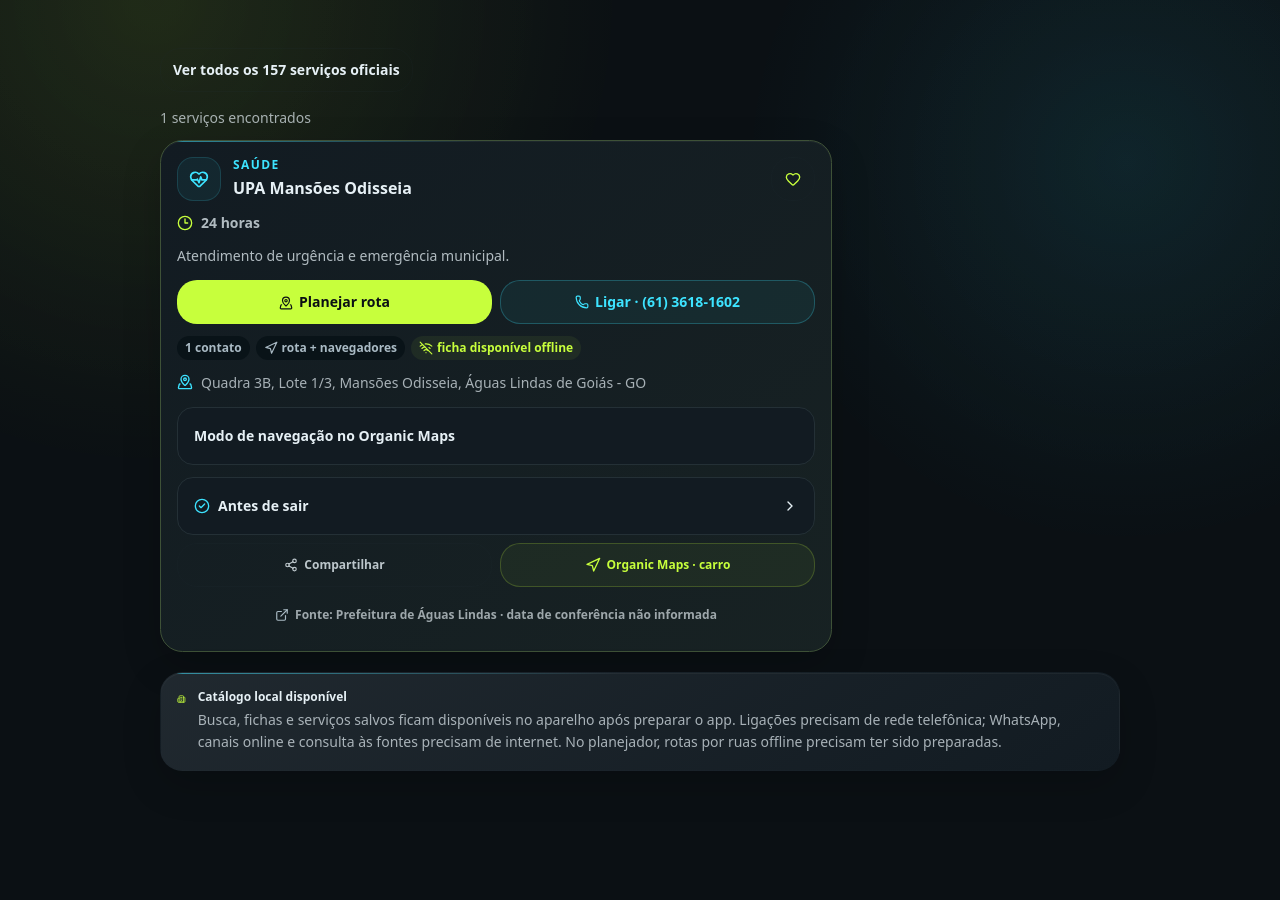
offers Organic Maps transport modes after selecting a physical service
The width and height of the screenshot is (1280, 900).
Click the heading "Modo de navegação no Organic Maps". click: (324, 436)
box: [194,426,455,445]
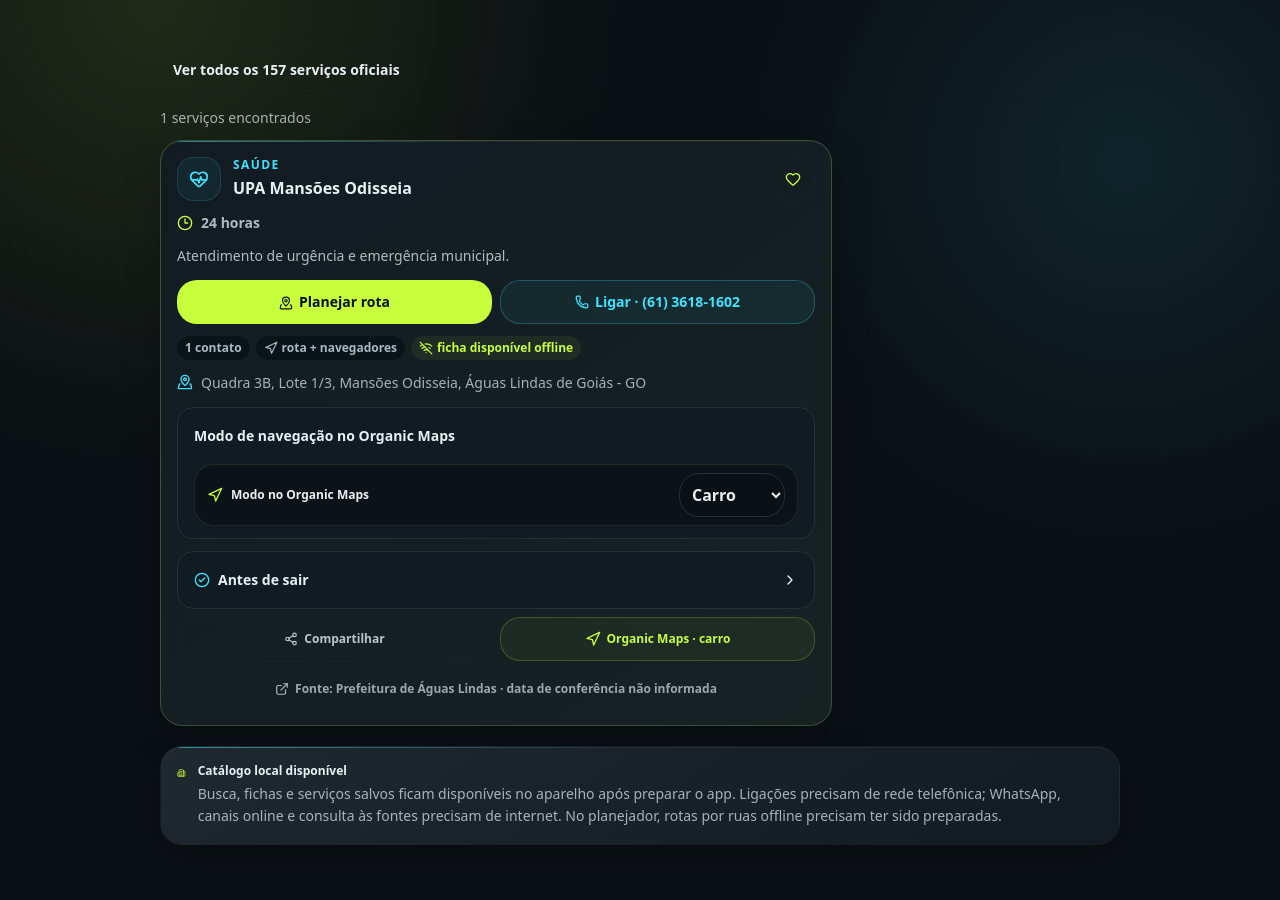
Select "A pé" in the dropdown named "Modo de navegação no Organic Maps". click: (732, 494)
box: [679,472,785,516]
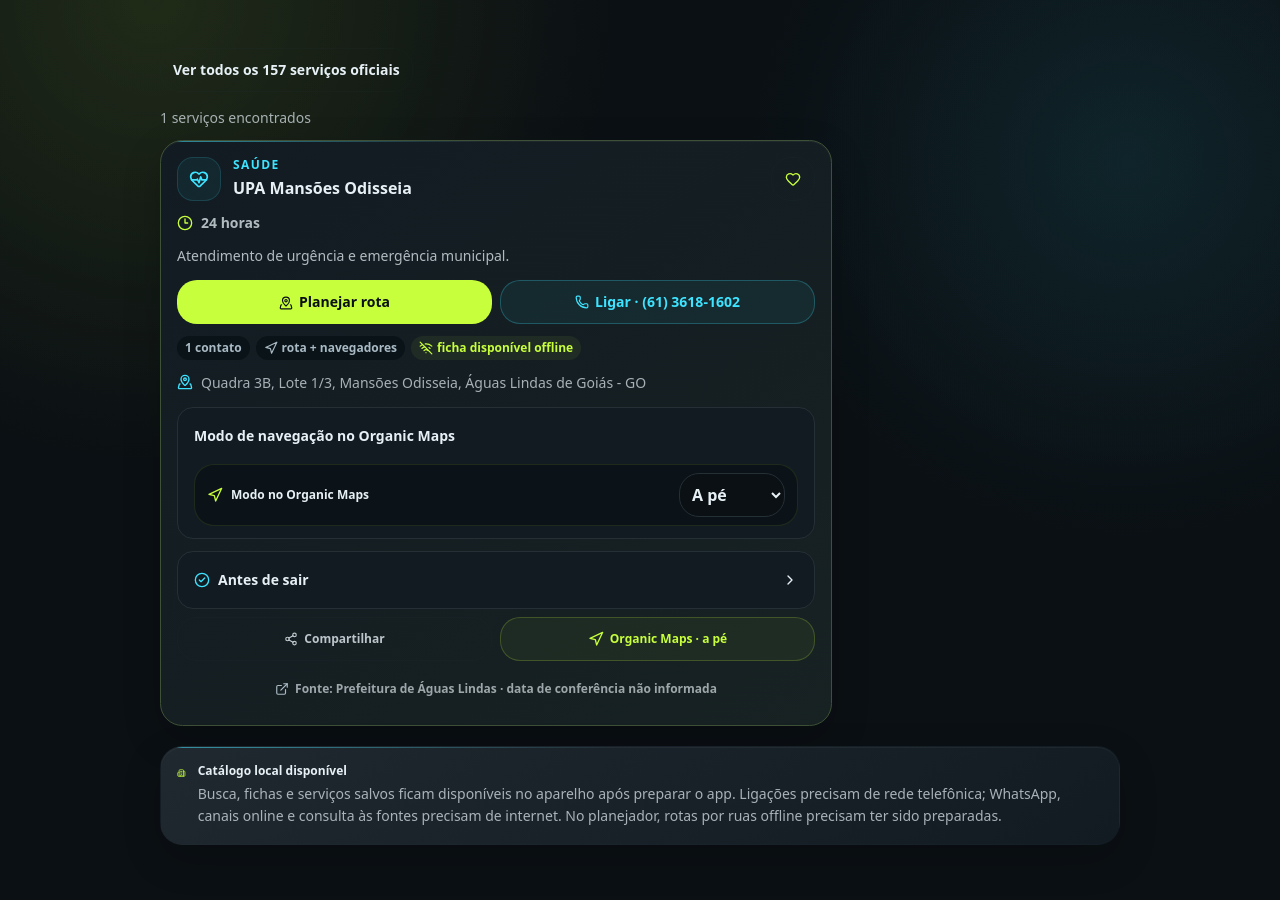
expect the button "Organic Maps · a pé" is shown: met, box [500,616,815,660]
